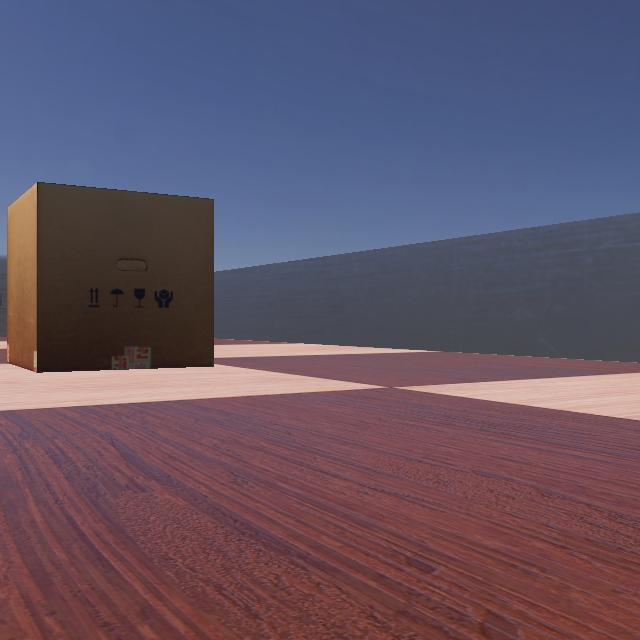cardboard-box: (0, 182, 232, 372)
